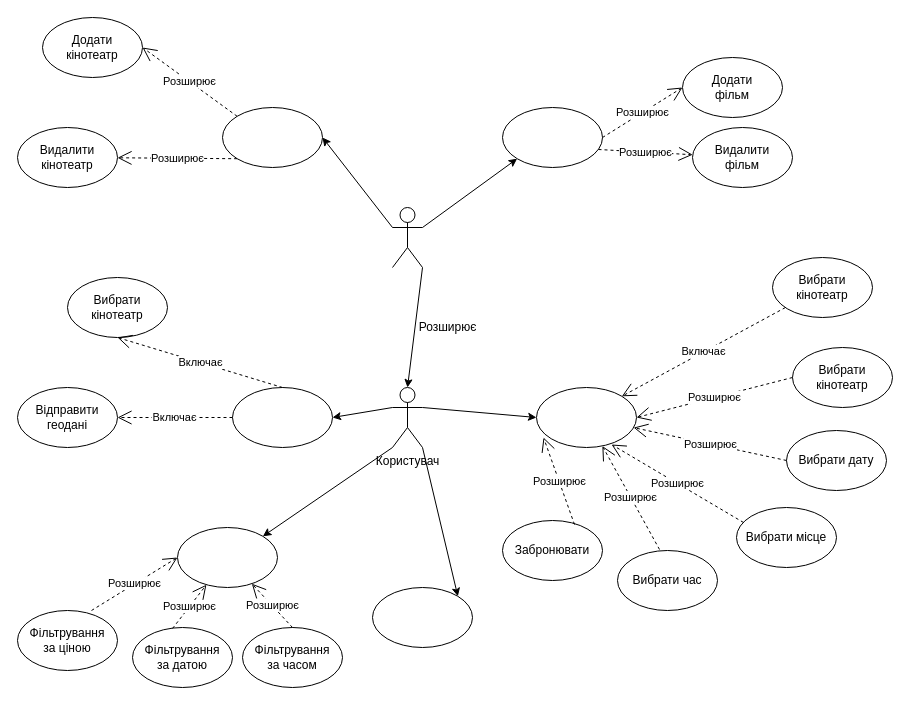
Image size: 910x705. Some labels were removed from this diagram. Each missing label, with the centre of its shape:
Адміністратор: the point at 407,237
Керування кінотеатрами: the point at 272,137
Керування фільмами: the point at 552,137
Переглянути історію: the point at 422,617
Робота з кінотеатром: the point at 282,417
Робота з фільмом: the point at 586,417
Робота з фільтруванням: the point at 227,557
